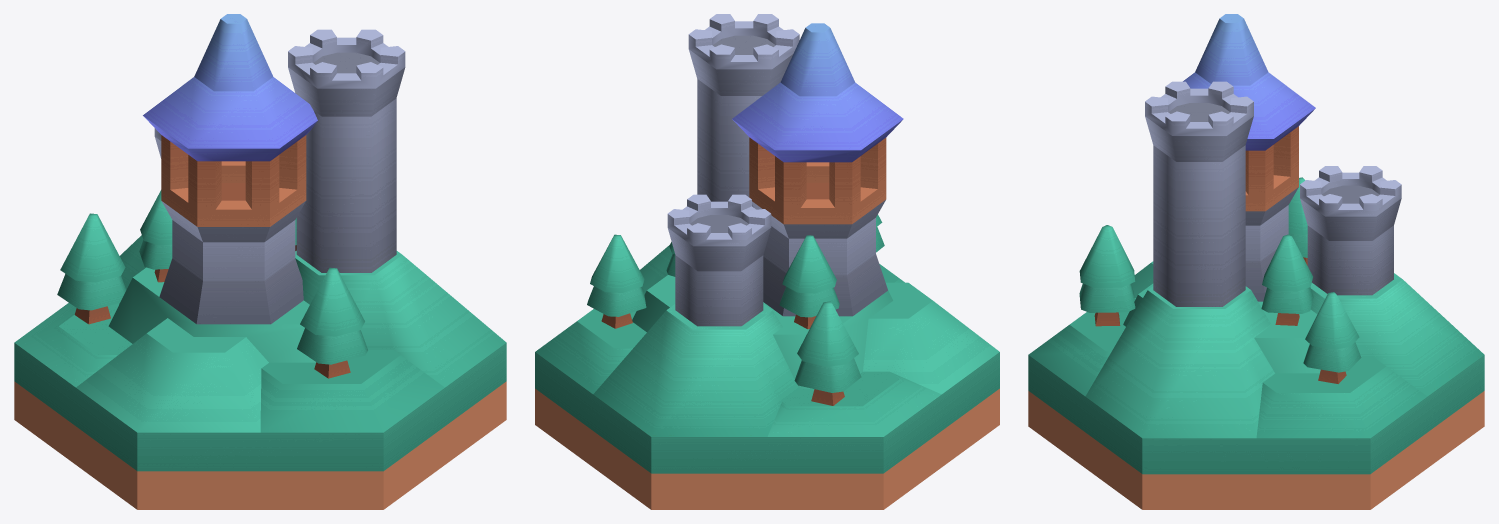
The model's file is tower.glb.
3 views of the same model, side by side, from view 1: azimuth 30°, elevation 25°; view 2: azimuth 150°, elevation 25°; view 3: azimuth 270°, elevation 25° (orthographic). The views are drawn at different scales.
Parts seen in each view (by area): view 1: building-wizard-tower; view 2: building-wizard-tower; view 3: building-wizard-tower.
Part boxes in pixels (x1,y1,x2,y2): building-wizard-tower: [14, 14, 506, 509]; building-wizard-tower: [535, 14, 999, 509]; building-wizard-tower: [1028, 14, 1484, 509].
Bounding box in the file's own units: 1 × 1.09 × 1.15.
1 material, 1 textured.
